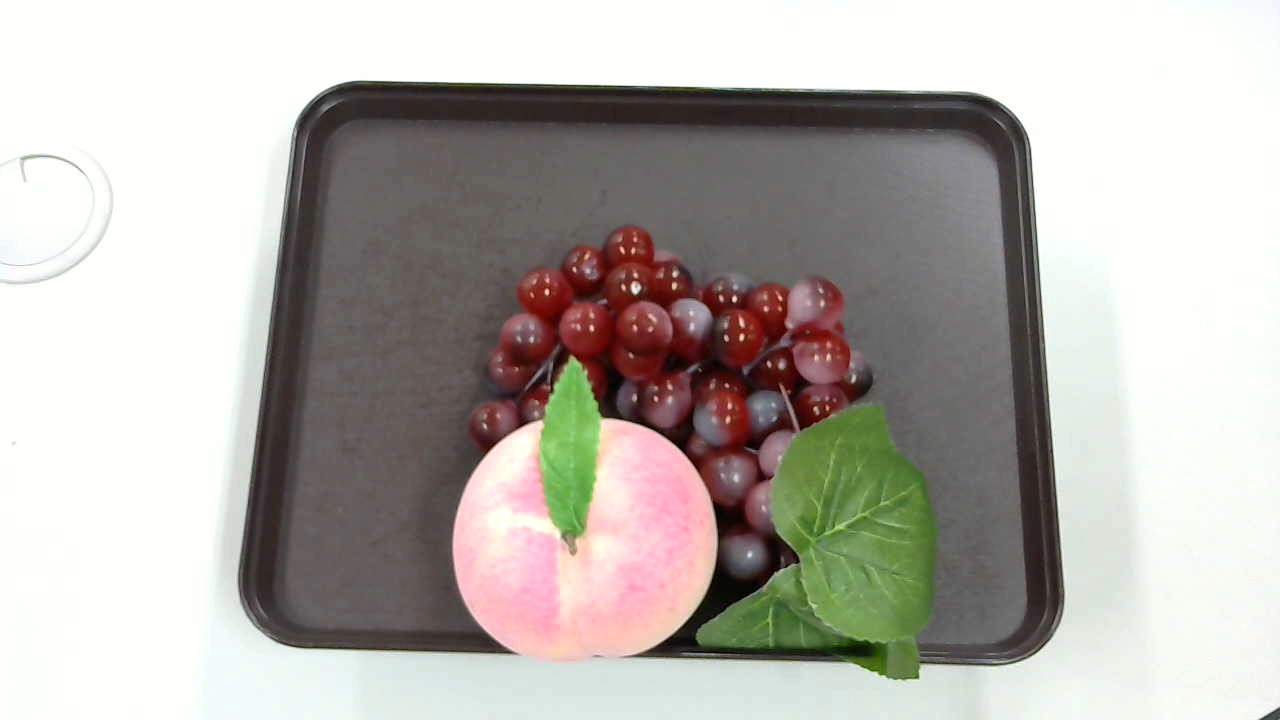grape: (469, 219, 939, 681)
peach: (451, 356, 718, 658)
